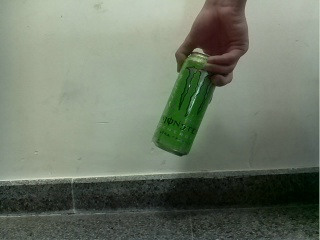botella plastico: (151, 51, 217, 156)
